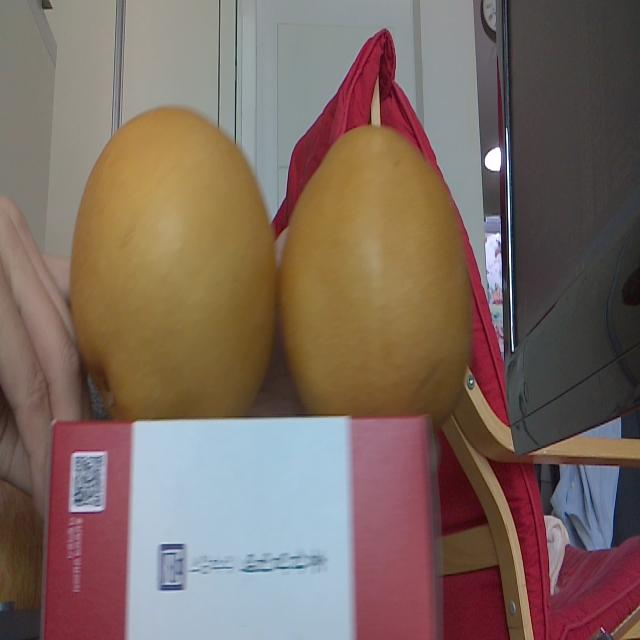pear: (69, 107, 279, 417), (278, 120, 478, 417)
